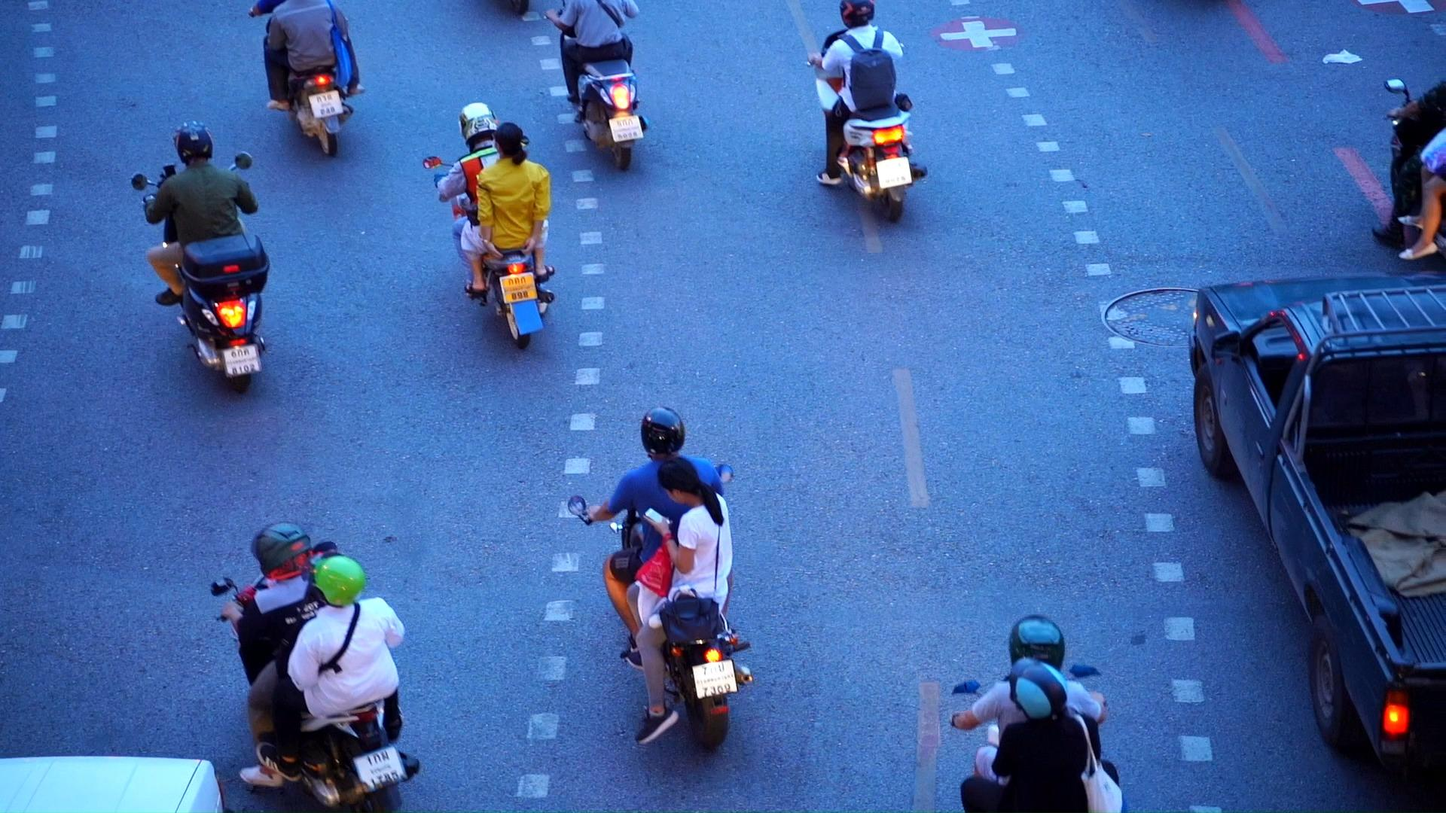driver: (568, 406, 752, 749), (209, 521, 419, 813), (130, 121, 270, 393), (949, 613, 1123, 813), (422, 101, 556, 350), (805, 0, 927, 224), (248, 0, 365, 156), (543, 1, 650, 171), (1372, 76, 1446, 264)
helmet: (301, 550, 367, 609), (1009, 657, 1068, 722), (250, 522, 313, 581), (1009, 614, 1066, 672), (641, 406, 685, 455), (458, 102, 500, 147), (173, 121, 213, 163), (840, 0, 874, 29)
no-helmet: (657, 457, 722, 508), (492, 122, 528, 166)
